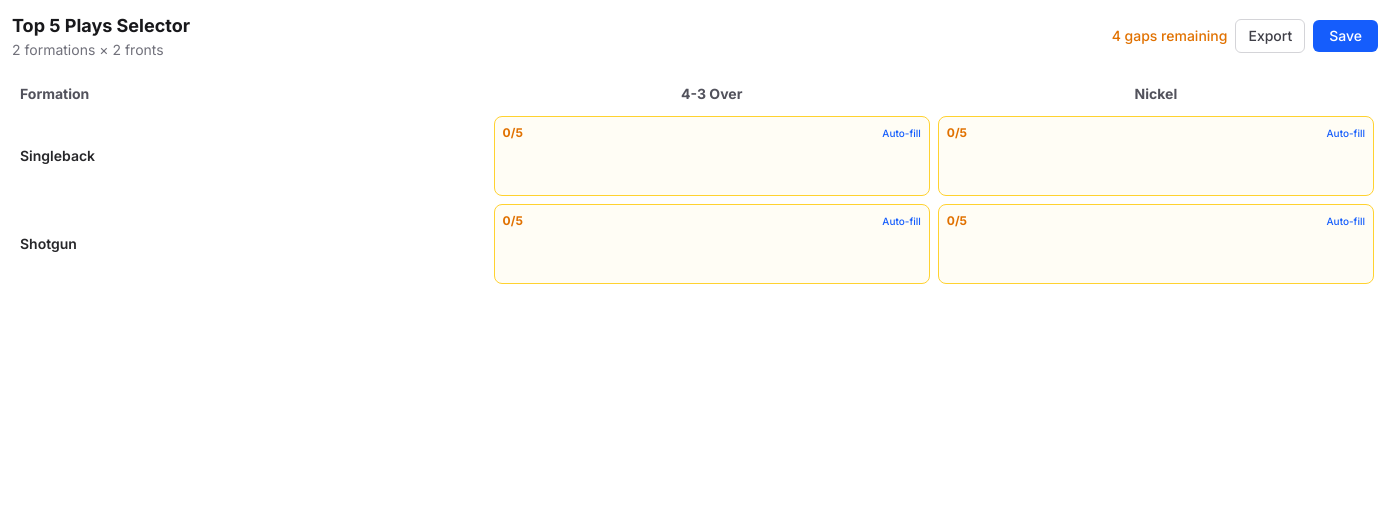
TopPlaysSelector › shows detail panel when clicking a cell
Step 1. Click the button with test id "cell-f1-fr1" → (507, 132), box [494, 116, 930, 196]
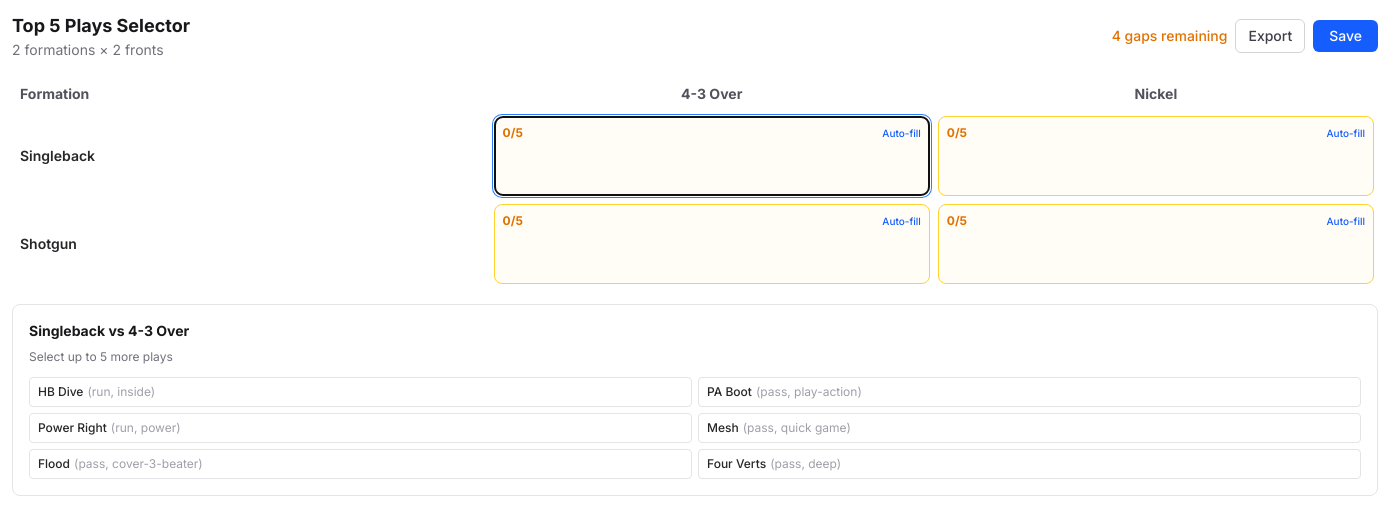
expect the element with test id "cell-detail-panel" is shown: met, box [12, 304, 1378, 496]
expect the heading "Singleback vs 4-3 Over" is shown: met, box [29, 322, 189, 339]
